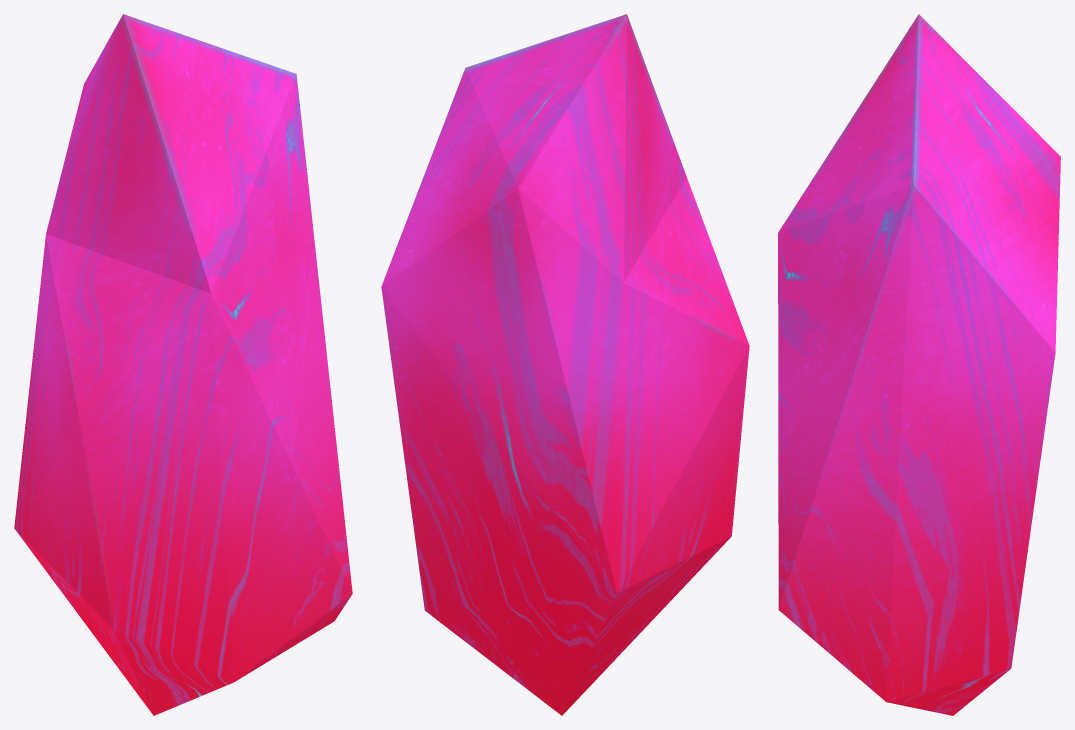
Rendered from gem.glb.
The picture shows the model from 3 angles, left to right: view 1: azimuth 30°, elevation 25°; view 2: azimuth 150°, elevation 25°; view 3: azimuth 270°, elevation 25°; orthographic projection. The views are drawn at different scales.
Visible parts, largest first — view 1: Cube; view 2: Cube; view 3: Cube.
Part boxes in pixels (x1,y1,x2,y2): Cube: (14,14,352,715); Cube: (381,14,749,715); Cube: (778,14,1060,715).
Size of the model in its own units: 0.3628 by 0.9019 by 0.3402.
1 material, 1 textured.
